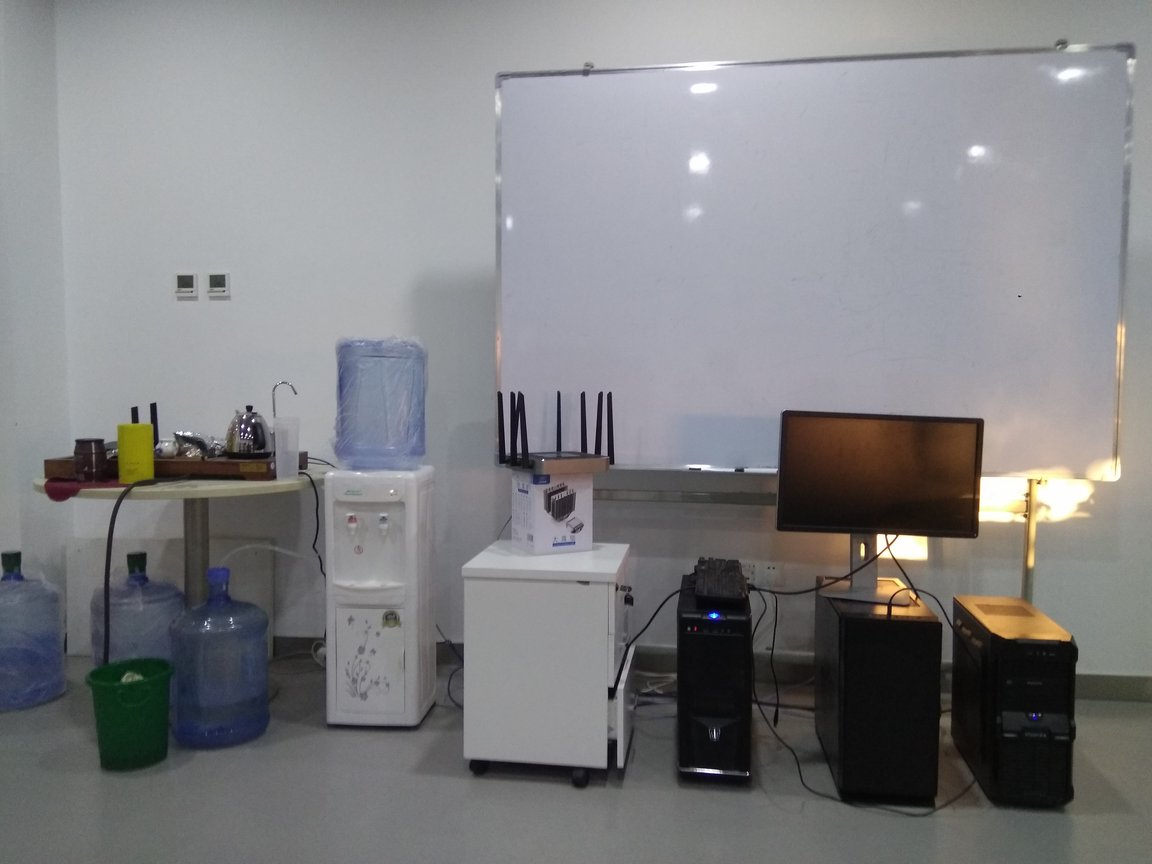computer: (811, 570, 943, 814), (956, 594, 1080, 822), (667, 561, 774, 807)
drawer chest: (464, 528, 631, 799)
monitor: (776, 397, 970, 602)
scuttlebutt: (169, 566, 280, 751), (89, 551, 182, 753), (330, 334, 433, 475), (1, 553, 78, 711)
water dispenser: (320, 467, 442, 738)
